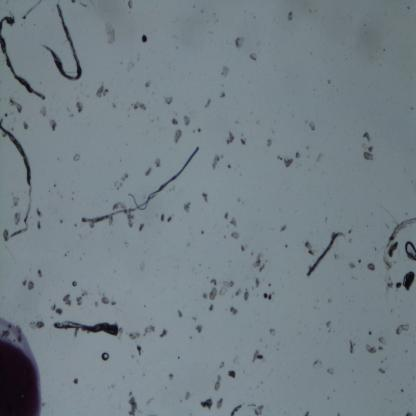Air bubble: (405, 240, 416, 260), (100, 351, 110, 362), (72, 280, 78, 288)
Background material: (396, 269, 416, 292), (361, 131, 374, 161), (104, 21, 116, 46), (8, 96, 22, 114), (212, 152, 223, 172), (395, 322, 409, 337), (128, 394, 138, 415), (252, 349, 264, 366), (310, 356, 324, 370), (225, 128, 235, 147), (63, 292, 74, 309), (314, 151, 328, 164), (199, 397, 214, 409), (182, 199, 192, 217), (96, 85, 109, 98), (234, 36, 246, 50), (132, 101, 146, 113), (124, 58, 136, 72), (126, 211, 136, 227), (47, 117, 58, 131), (364, 343, 378, 354), (304, 241, 315, 255), (144, 324, 156, 336), (214, 373, 222, 391), (38, 104, 48, 118), (173, 129, 182, 144), (217, 284, 228, 296), (121, 240, 133, 251), (182, 115, 192, 128), (31, 320, 44, 330), (200, 188, 208, 204), (135, 342, 144, 356), (114, 179, 123, 193), (12, 212, 21, 226), (158, 327, 168, 339), (378, 334, 388, 346), (264, 137, 274, 149), (145, 164, 153, 179), (348, 336, 354, 356), (72, 152, 82, 164), (143, 77, 153, 89), (220, 66, 230, 78), (255, 253, 262, 270), (75, 100, 84, 113), (209, 288, 217, 302), (100, 294, 110, 305), (284, 157, 294, 168), (140, 33, 149, 45), (129, 332, 141, 341), (325, 318, 332, 333), (176, 307, 184, 320), (12, 195, 20, 208), (164, 96, 174, 106), (326, 366, 336, 376), (258, 263, 268, 273), (137, 223, 146, 234), (367, 261, 376, 272), (262, 293, 273, 302), (287, 9, 294, 23), (195, 323, 203, 335), (228, 368, 236, 380), (203, 98, 211, 110), (184, 390, 192, 402), (249, 52, 258, 62), (268, 326, 277, 336), (378, 366, 387, 376), (231, 231, 241, 240), (230, 305, 238, 316), (230, 217, 238, 228), (210, 276, 218, 287), (2, 230, 8, 244), (76, 295, 83, 307), (216, 399, 225, 408), (226, 278, 235, 287), (201, 291, 210, 300), (280, 223, 289, 232), (27, 281, 35, 291), (238, 244, 248, 252), (155, 158, 163, 168), (309, 122, 317, 132), (254, 276, 260, 289), (36, 208, 43, 219), (126, 1, 134, 10), (170, 117, 178, 126), (56, 307, 64, 316), (121, 172, 128, 182), (50, 303, 57, 313), (235, 287, 242, 297), (139, 260, 146, 270), (23, 119, 29, 130), (160, 213, 166, 224), (36, 220, 42, 231), (294, 150, 302, 158), (82, 290, 90, 298), (226, 162, 233, 171), (219, 91, 226, 100), (218, 361, 225, 370), (167, 214, 173, 224), (225, 210, 230, 222), (303, 408, 310, 416), (66, 112, 74, 119), (245, 291, 250, 302), (240, 137, 246, 146), (22, 278, 28, 287), (37, 269, 43, 278), (169, 372, 174, 382), (209, 304, 215, 312), (73, 377, 79, 385), (2, 110, 8, 118), (93, 300, 99, 308), (403, 411, 412, 416), (400, 386, 404, 396), (349, 275, 357, 280), (196, 126, 201, 134), (402, 348, 408, 354), (376, 346, 382, 352), (110, 301, 116, 307), (327, 78, 332, 85), (194, 314, 198, 322), (58, 218, 63, 224), (366, 330, 372, 335), (132, 353, 136, 360), (328, 298, 332, 305), (348, 228, 352, 235), (284, 244, 289, 249), (202, 230, 206, 236), (350, 263, 354, 269), (64, 252, 68, 258), (384, 356, 388, 362), (268, 281, 272, 287), (278, 156, 283, 160), (379, 360, 384, 364), (337, 411, 341, 416), (358, 258, 361, 263), (53, 184, 57, 187), (348, 239, 352, 242), (74, 222, 76, 226)
Cellulose filter fibre: (0, 116, 33, 241), (0, 14, 46, 103), (42, 0, 84, 83), (384, 215, 416, 299), (306, 232, 344, 280), (53, 318, 121, 341), (230, 402, 263, 416), (22, 1, 42, 20)
Cotton: (80, 146, 200, 226)
Pen: (0, 312, 46, 416)
